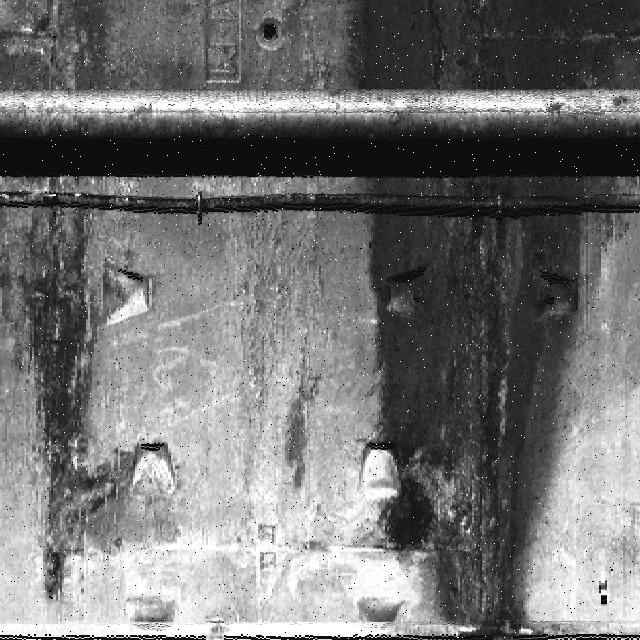leakage: (342, 6, 640, 640), (1, 1, 131, 618)
